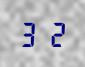three: (19, 20, 41, 47)
two: (42, 20, 64, 47)
